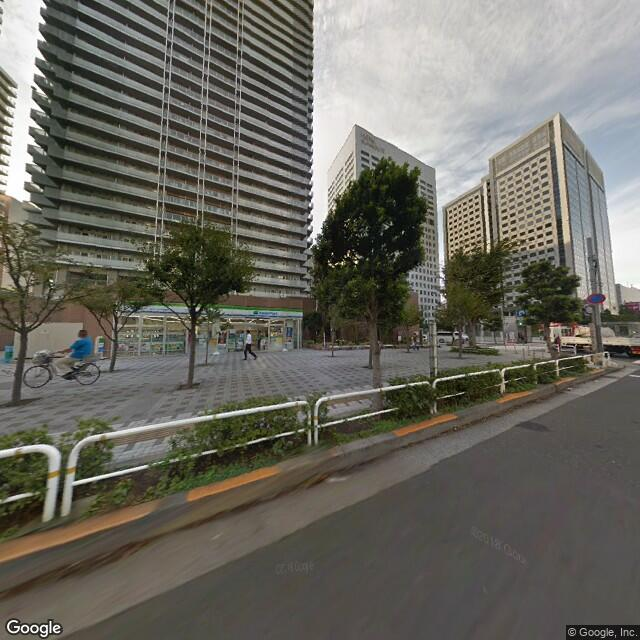family_mart: (119, 298, 306, 320)
